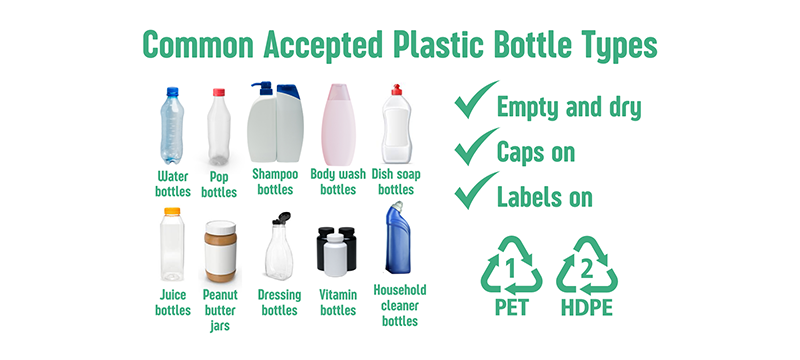plastic_bottle: (252, 208, 308, 284), (199, 82, 242, 167), (154, 200, 193, 287), (156, 79, 191, 168)
